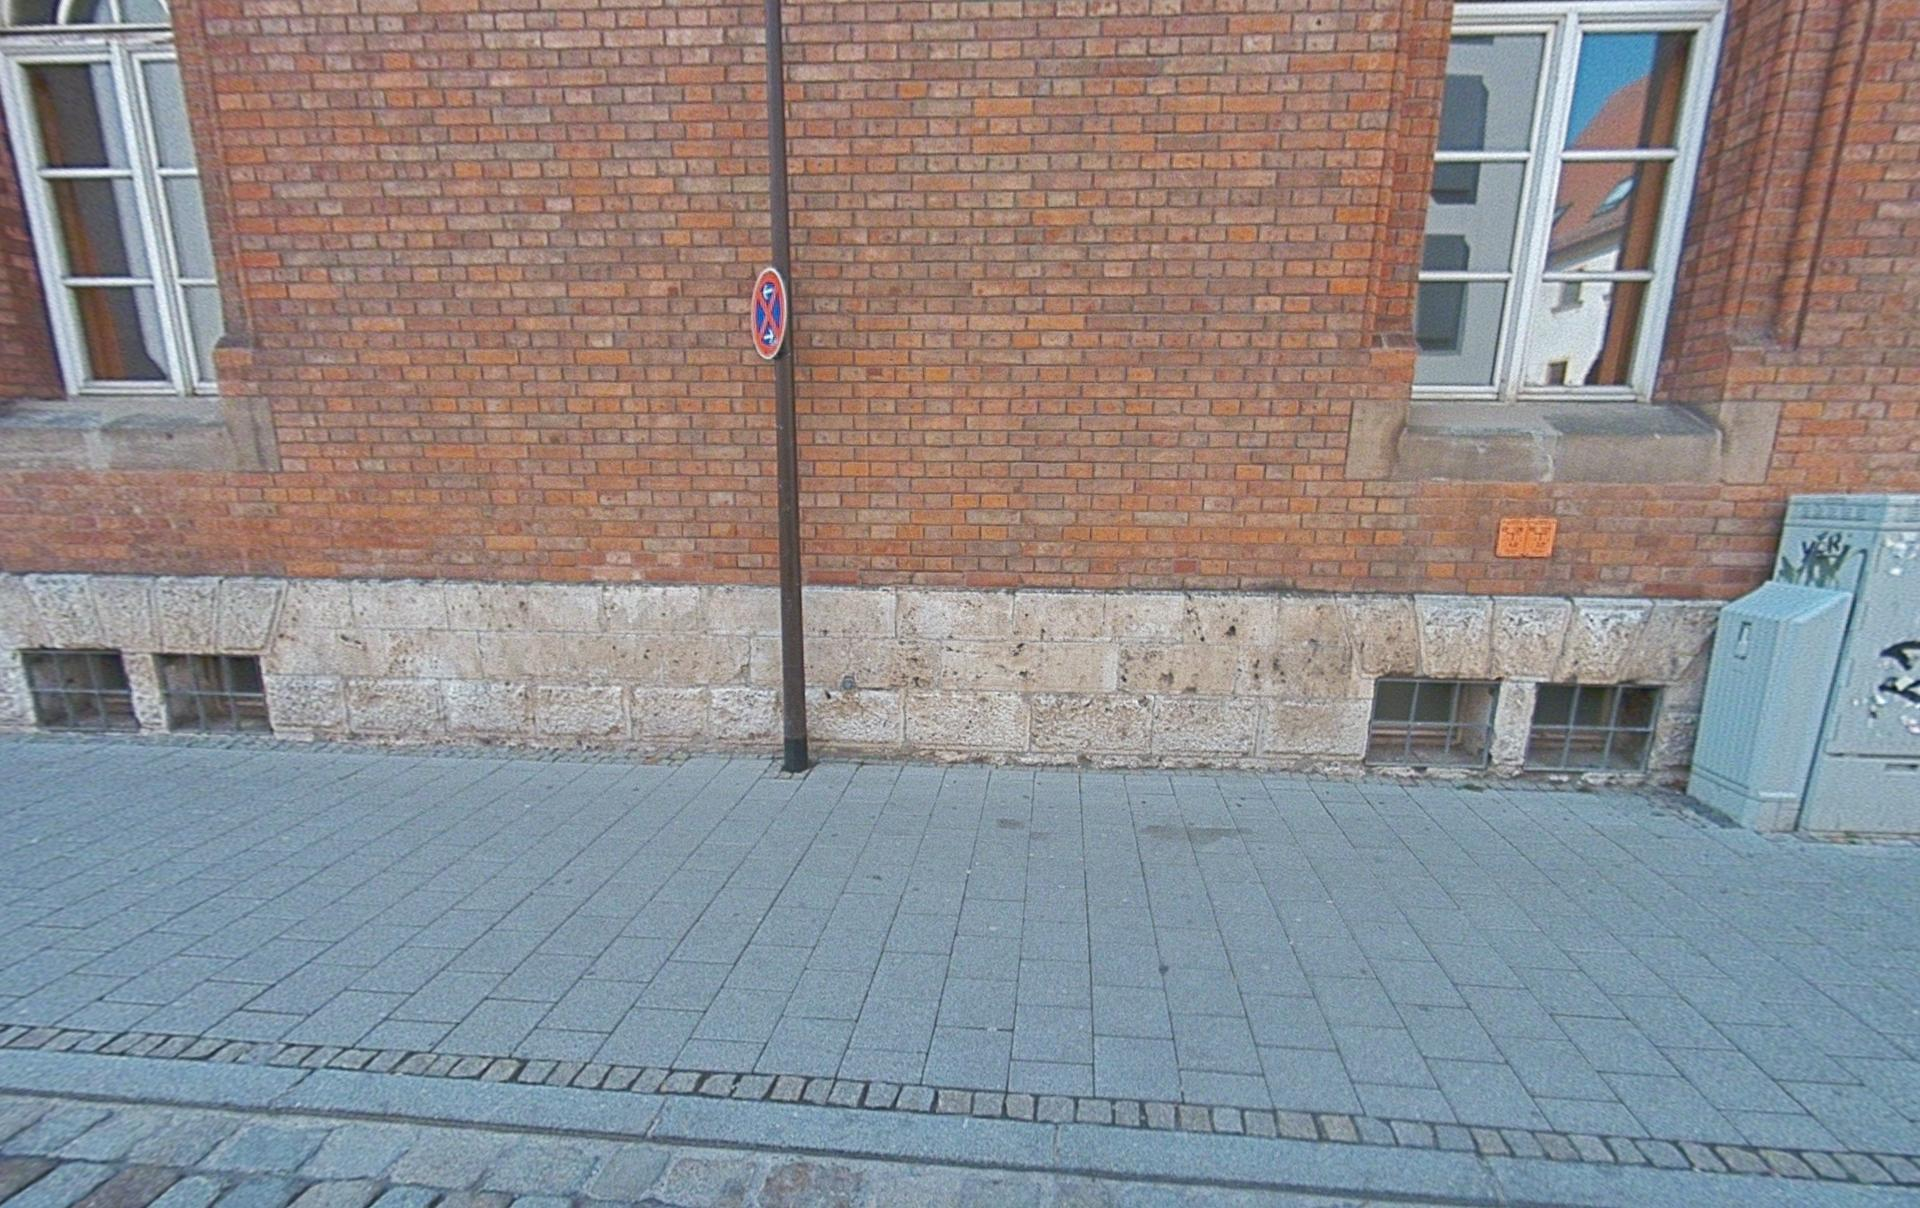traffic sign: (750, 267, 787, 360)
